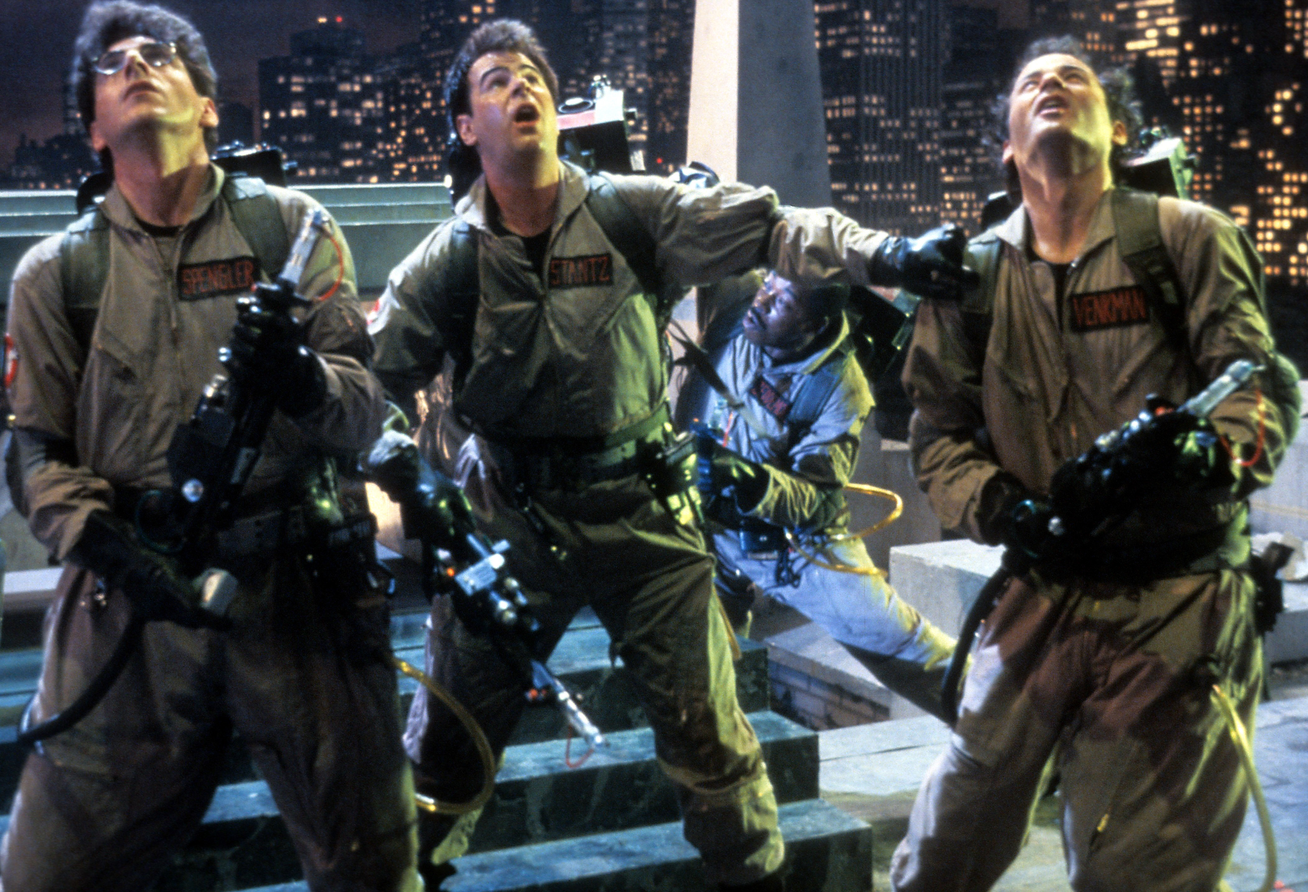37: (998, 34, 1117, 163), (458, 31, 563, 171)
Belt: (448, 423, 689, 502), (118, 497, 335, 580), (1130, 491, 1258, 563)
Glasses: (77, 40, 188, 82)
Gloves: (65, 493, 226, 638), (971, 464, 1127, 588), (215, 289, 333, 444), (865, 221, 979, 310), (693, 444, 772, 522)
Jump suit: (368, 160, 893, 892), (2, 162, 424, 892), (900, 181, 1300, 892), (665, 300, 958, 679)
Male: (998, 34, 1117, 163), (458, 31, 563, 171)
